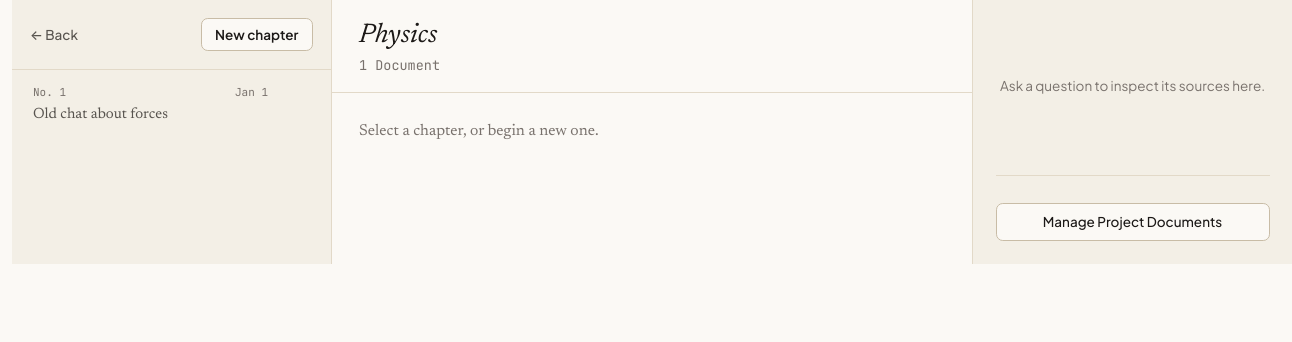
Test: ChatScreen › shows an error if a chapter’s messages fail to load
This screenshot has width=1292, height=342.
Click the text "Old chat about forces".
click(100, 114)  # box [33,107,168,122]
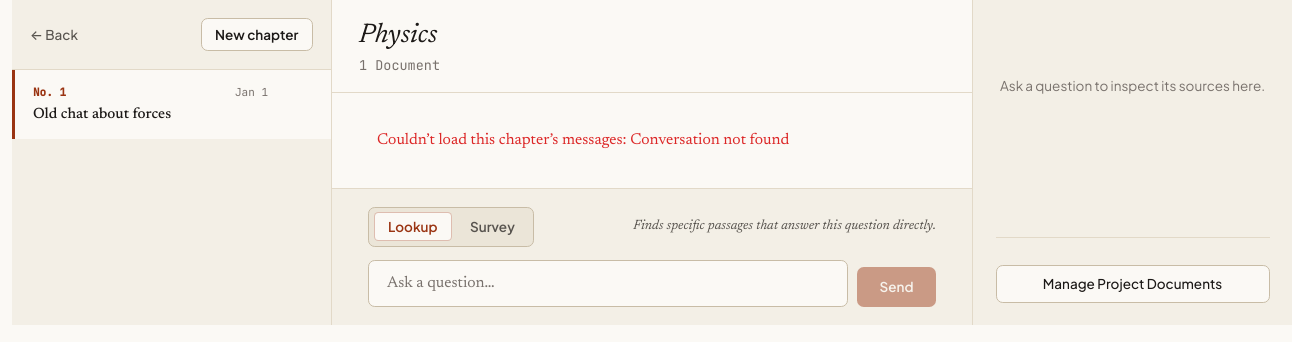
Check: the text "Conversation not found" is shown, box [630,132,789,148]
